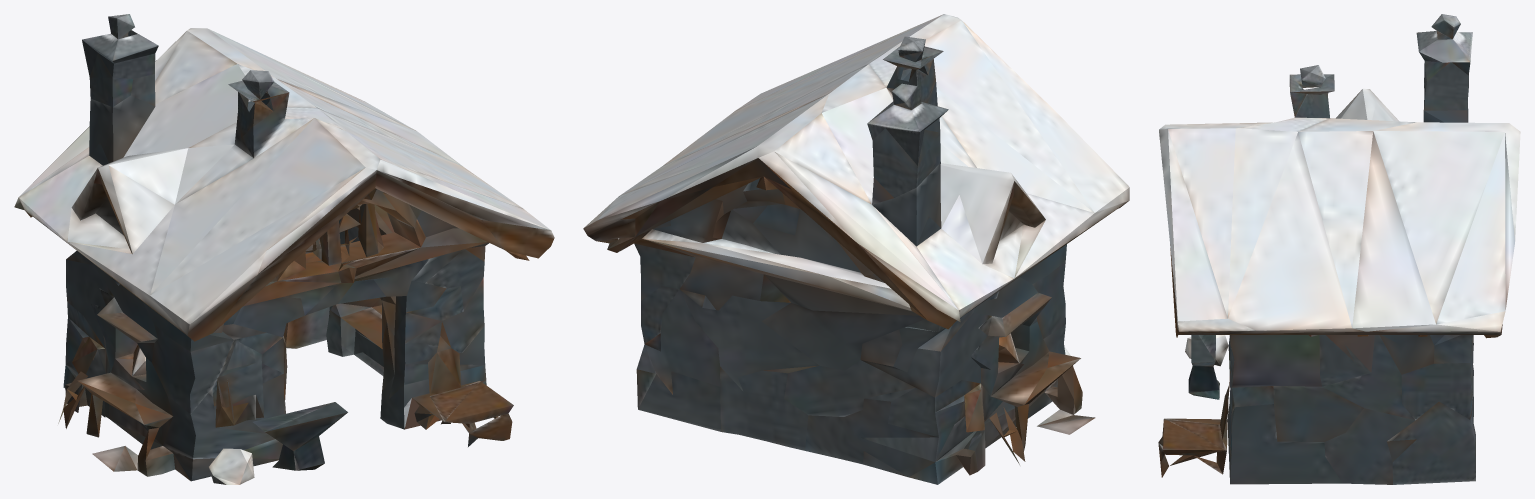
Rendered from smithy.glb.
3 views of the same model, side by side, from view 1: azimuth 30°, elevation 25°; view 2: azimuth 150°, elevation 25°; view 3: azimuth 270°, elevation 25° (orthographic). The views are drawn at different scales.
Size of the model in its own units: 1.89 by 1.73 by 1.62.
Materials: 1 (1 with a texture image).
